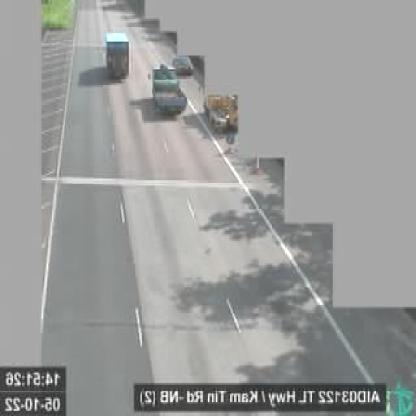Car: (105, 31, 129, 78)
Truck: (152, 66, 190, 113)
